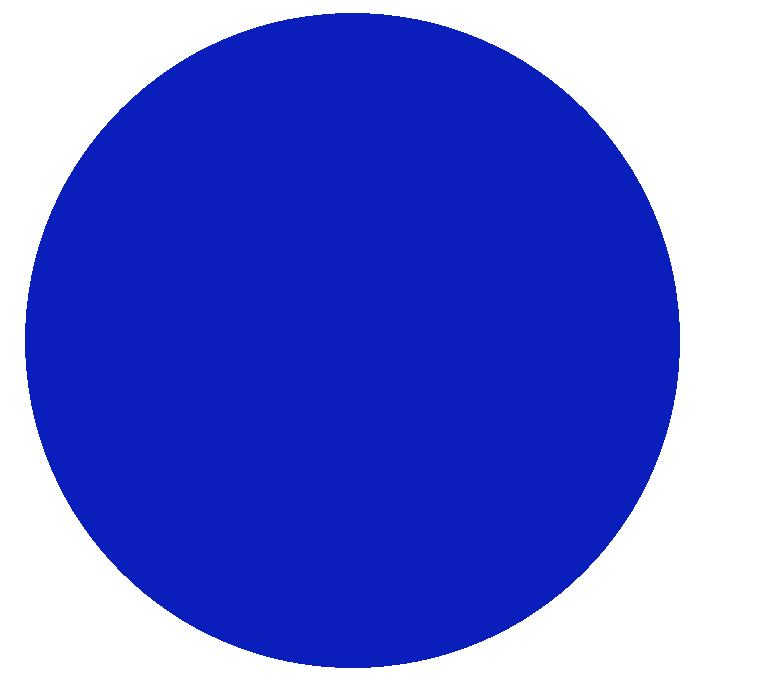blue_circle: (6, 3, 704, 683)
